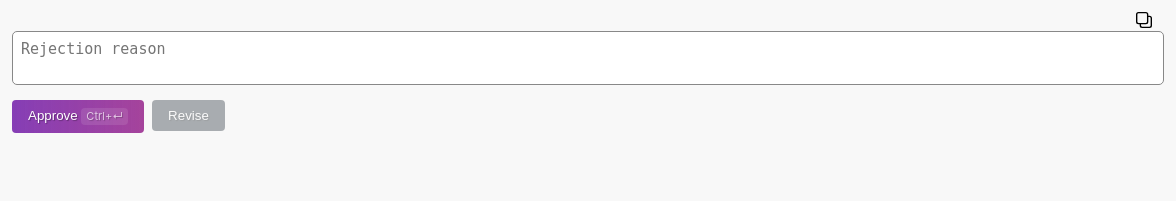
UserRequest › displays error message when API returns error response
The width and height of the screenshot is (1176, 201).
// Click approve button
Click the button with class "cta-button-color": (78, 116) x1=12 y1=100 x2=144 y2=133
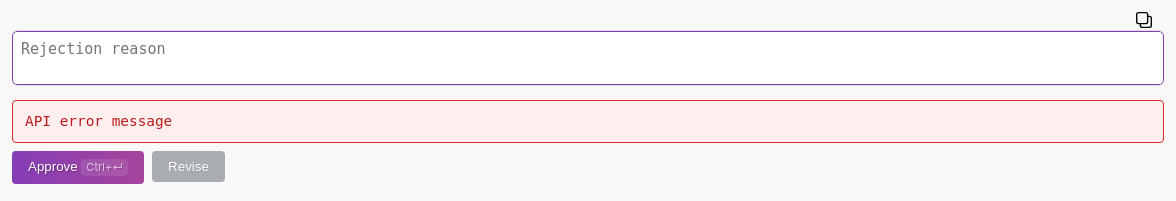
Result: the text "API error message" is shown at x1=12 y1=100 x2=1164 y2=143
Result: the text with class "error-message" reads "API error message" at x1=25 y1=113 x2=172 y2=129
